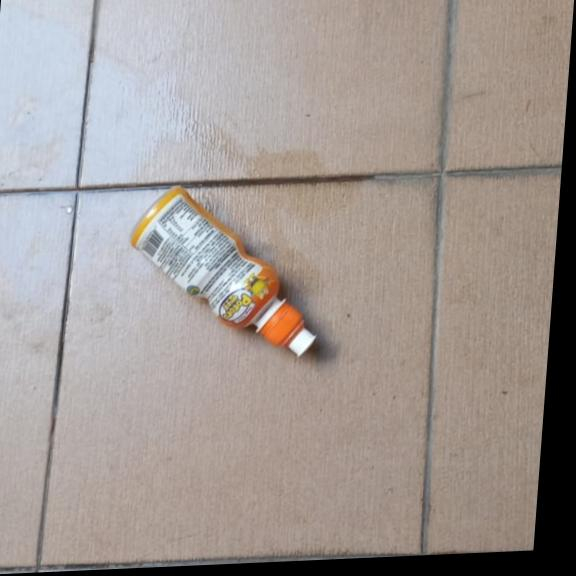Plastik: (118, 179, 327, 366)
